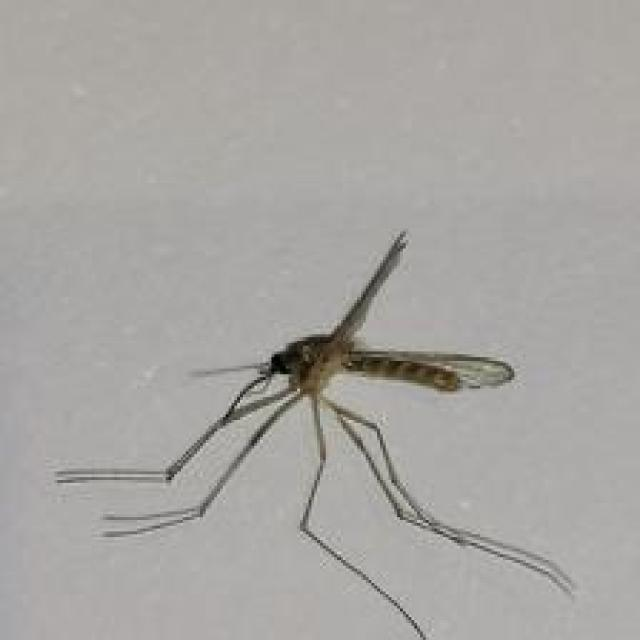Culex: (52, 228, 578, 640)
